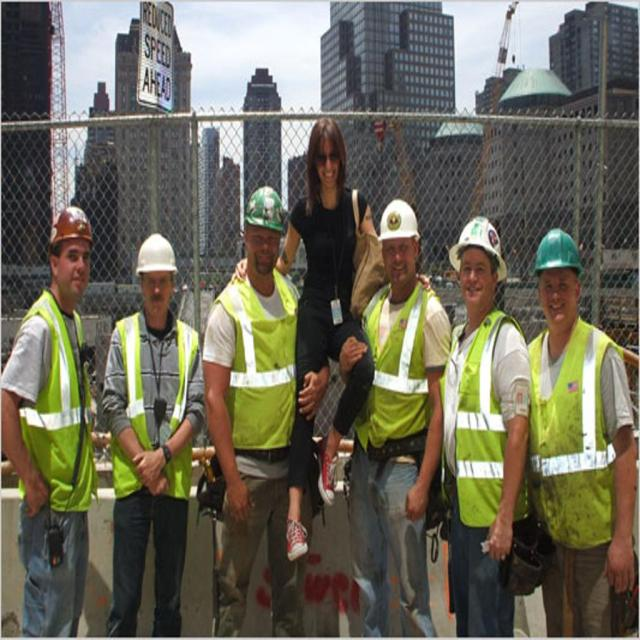Face: (449, 235, 500, 309), (540, 261, 588, 336), (239, 205, 282, 288), (375, 225, 418, 301), (51, 234, 95, 302), (139, 262, 177, 322), (313, 139, 346, 208)
